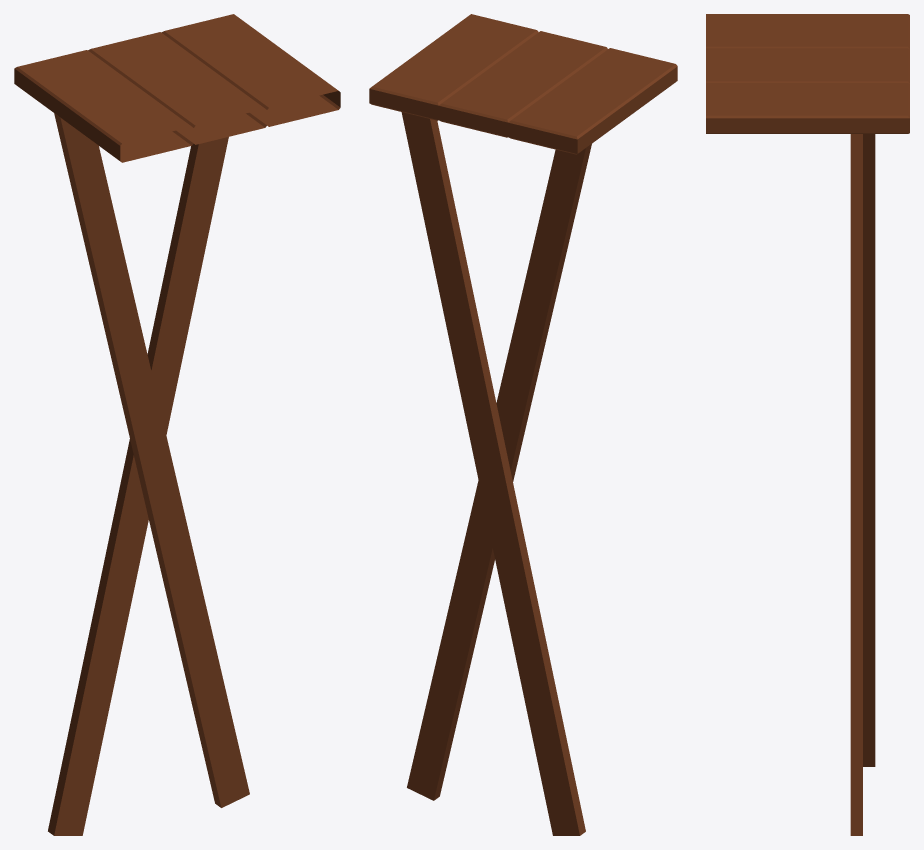
The model's file is Table_plank_end.fbx.
3 renders of one model, left to right at view 1: azimuth 30°, elevation 25°; view 2: azimuth 150°, elevation 25°; view 3: azimuth 270°, elevation 25°, orthographic. The views are drawn at different scales.
Visible parts, largest first — view 1: Table_plank_end_object; view 2: Table_plank_end_object; view 3: Table_plank_end_object.
Boxes of the visible parts, x1,y1,x2,y2 form: Table_plank_end_object: (14, 14, 340, 835); Table_plank_end_object: (369, 14, 677, 835); Table_plank_end_object: (706, 14, 909, 835).
Size of what is drawn, in the model's own units: 1200 by 3968 by 1000.
